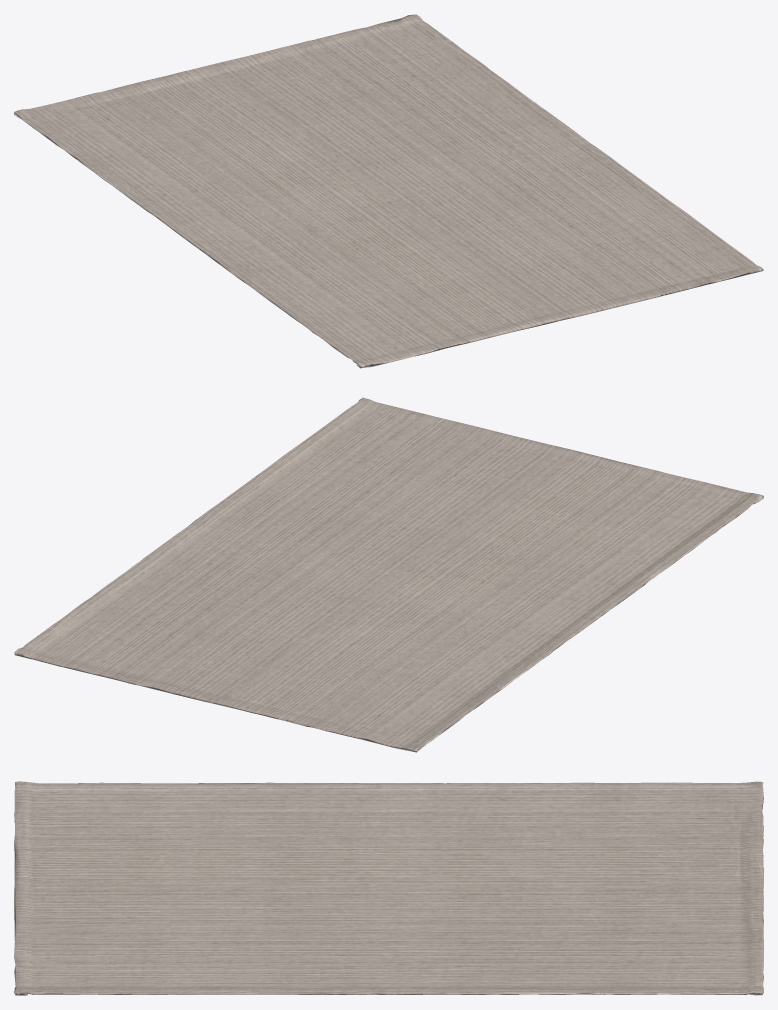
The model's file is 06 - TIPHEDE Rug, flatwoven - naturalblack 120x180 cm.glb.
3 views of the same model, one above another, from view 1: azimuth 30°, elevation 25°; view 2: azimuth 150°, elevation 25°; view 3: azimuth 270°, elevation 25° (orthographic). The views are drawn at different scales.
Parts seen in each view (by area): view 1: ASY_ART_40456757_S01_NV01; view 2: ASY_ART_40456757_S01_NV01; view 3: ASY_ART_40456757_S01_NV01.
Boxes of the visible parts, x1,y1,x2,y2 form: ASY_ART_40456757_S01_NV01: (14,14,763,368); ASY_ART_40456757_S01_NV01: (14,397,763,752); ASY_ART_40456757_S01_NV01: (14,781,763,995).
Size of the model in its own units: 1.2 by 0.0115 by 1.8.
1 material, 1 textured.
